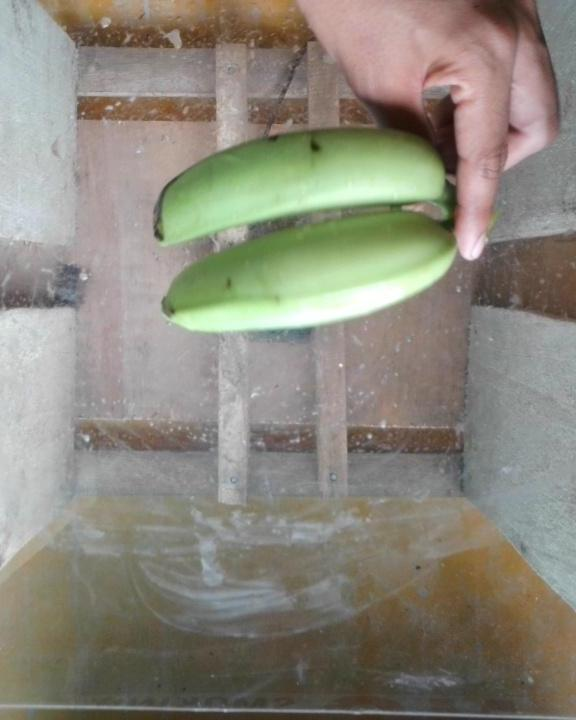CLASS B: (145, 111, 465, 347)
Class A: (154, 166, 184, 234), (303, 125, 333, 163), (261, 126, 290, 151)
